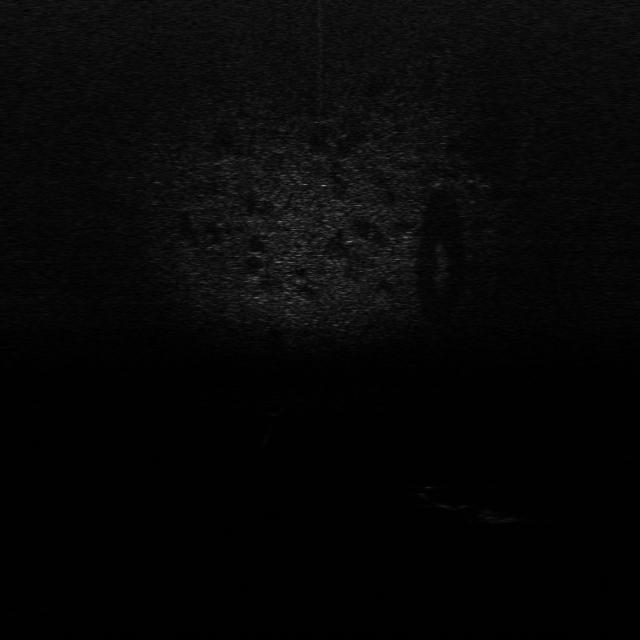metal bucket: (482, 502, 524, 526)
tyre: (419, 484, 473, 512)
